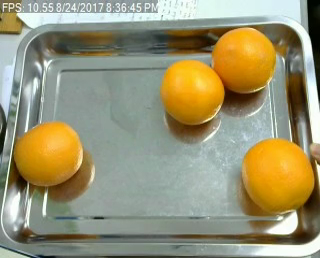Orange: (242, 137, 316, 212), (13, 120, 83, 186), (211, 26, 277, 92), (159, 58, 223, 123)
